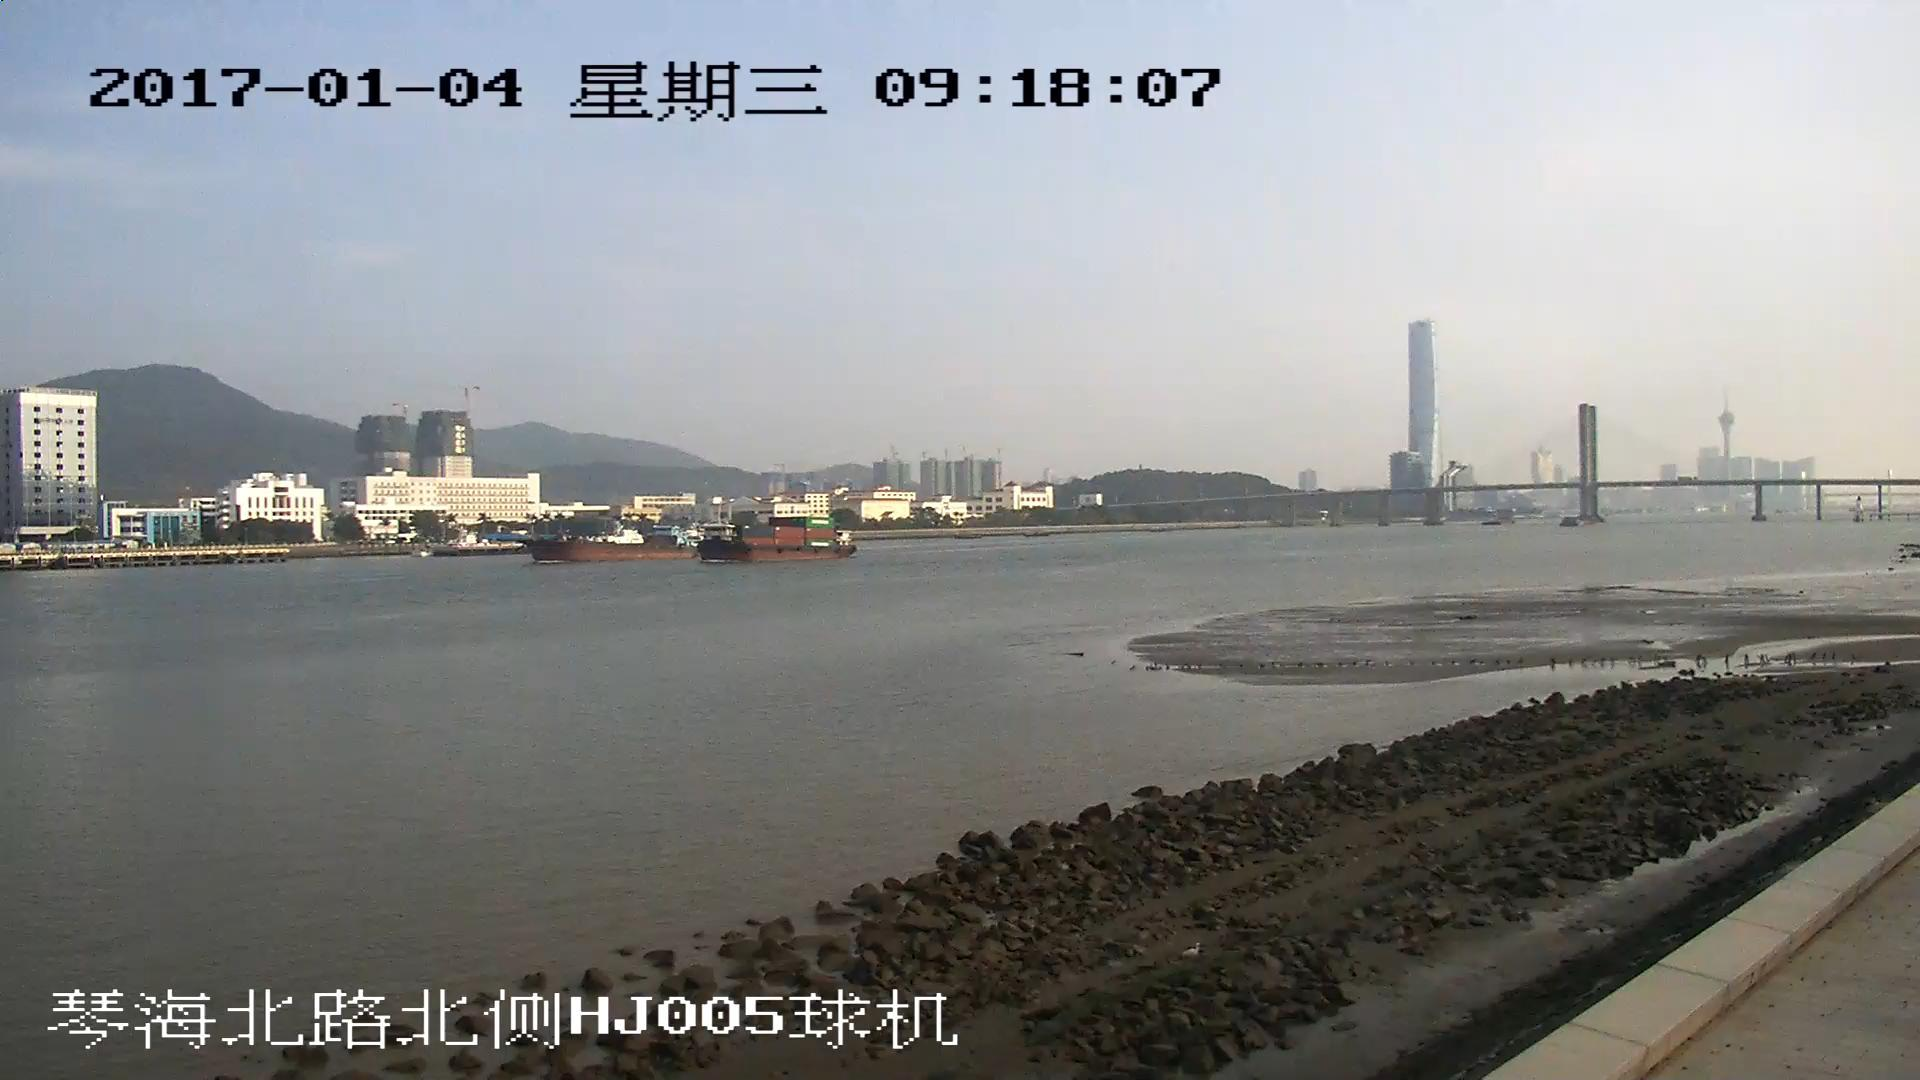Ship: (696, 516, 852, 564), (531, 534, 684, 560)
